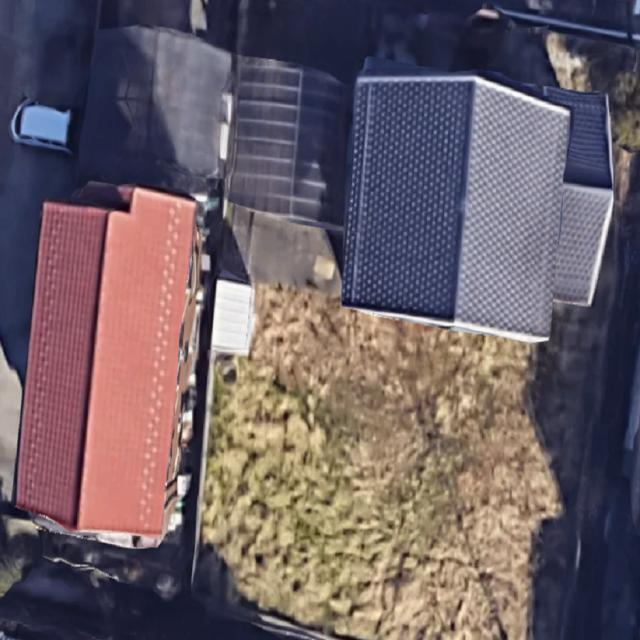Batiment: (342, 69, 614, 342), (16, 184, 201, 543), (79, 26, 231, 193), (228, 57, 349, 226)
